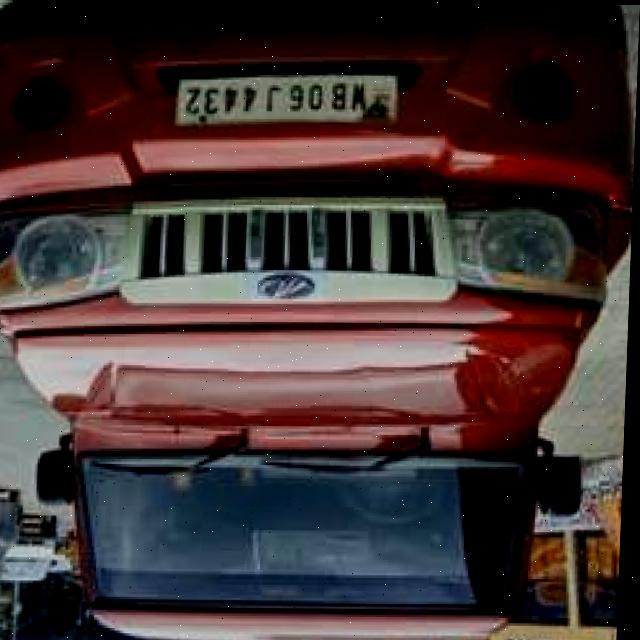plate: (173, 70, 398, 131)
